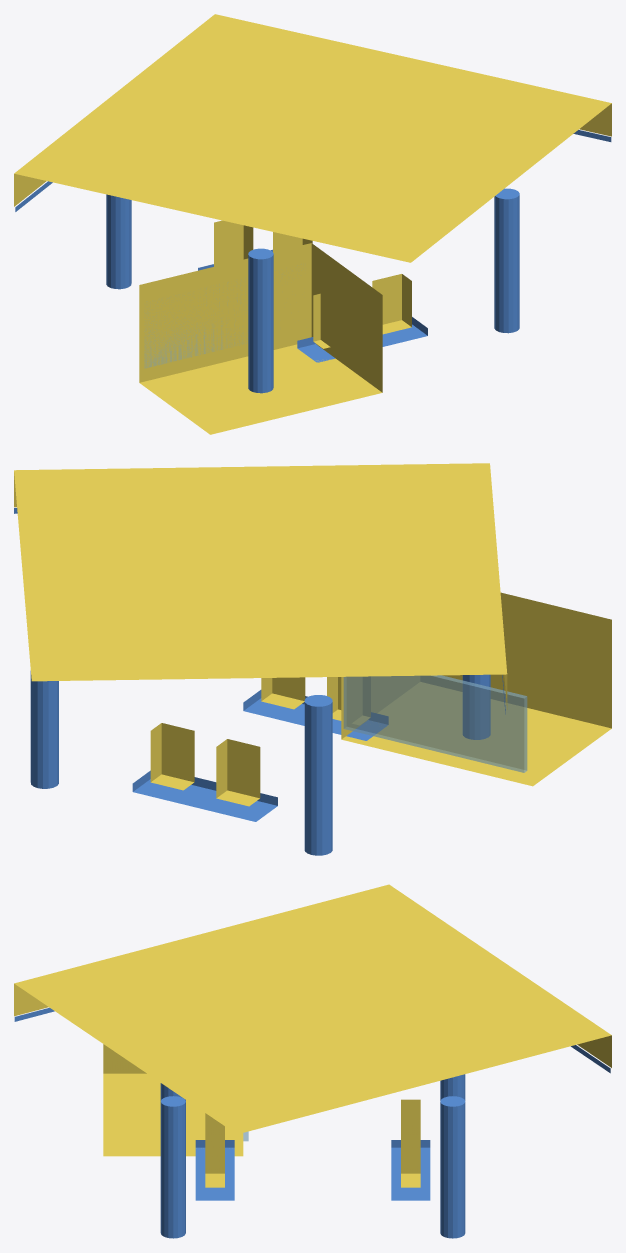
The picture shows the model from 3 angles, top to bottom: view 1: azimuth 30°, elevation 25°; view 2: azimuth 150°, elevation 25°; view 3: azimuth 270°, elevation 25°; orthographic projection. The views are drawn at different scales.
Parts seen in each view (by area): view 1: ov240_BPCL_YellowFascia, ov240_BPCL_BluePillar, ov240_BPCL_GlassStore; view 2: ov240_BPCL_YellowFascia, ov240_BPCL_BluePillar, ov240_BPCL_GlassStore; view 3: ov240_BPCL_YellowFascia, ov240_BPCL_BluePillar.
Boxes of the visible parts, x1=… form: ov240_BPCL_YellowFascia: x1=14, y1=14, x2=611, y2=434; ov240_BPCL_BluePillar: x1=15, y1=130, x2=611, y2=393; ov240_BPCL_GlassStore: x1=144, y1=265, x2=297, y2=368; ov240_BPCL_YellowFascia: x1=14, y1=463, x2=611, y2=806; ov240_BPCL_BluePillar: x1=14, y1=508, x2=505, y2=855; ov240_BPCL_GlassStore: x1=343, y1=675, x2=527, y2=772; ov240_BPCL_YellowFascia: x1=14, y1=884, x2=611, y2=1187; ov240_BPCL_BluePillar: x1=14, y1=1007, x2=610, y2=1238.
Size of the model in its own units: 21.16 by 6.5 by 21.39.
